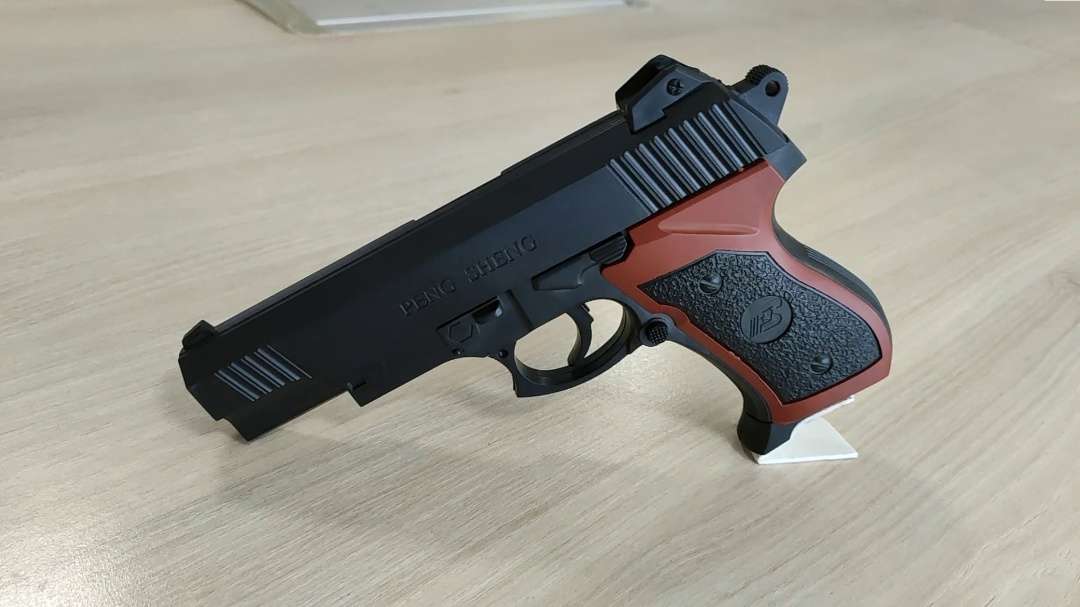gun: (410, 260, 503, 351)
